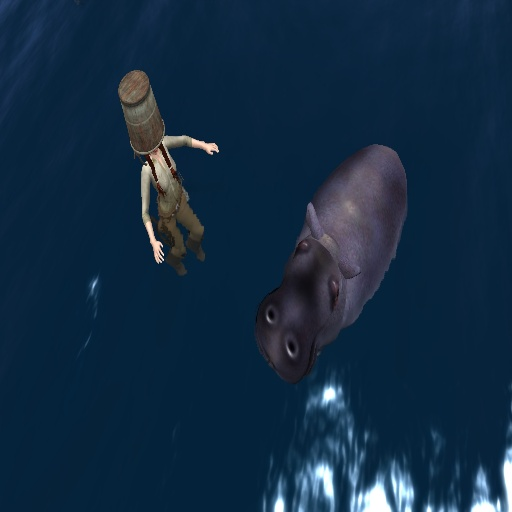hand: (153, 239, 166, 265), (205, 141, 219, 154)
